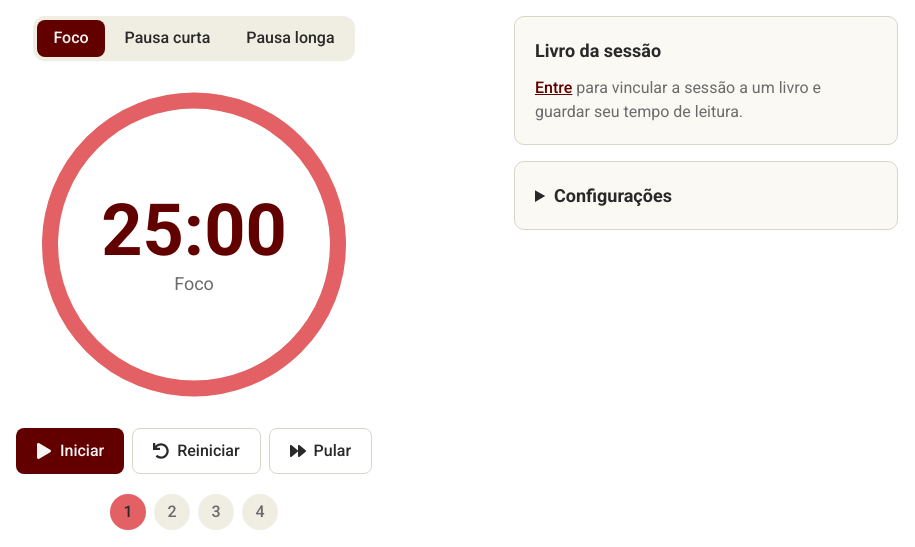
Test: Pomodoro › muda a duração do foco nas configurações
This screenshot has width=915, height=547.
Click the heading "Configurações" at (613, 196), box x1=554 y1=185 x2=672 y2=206
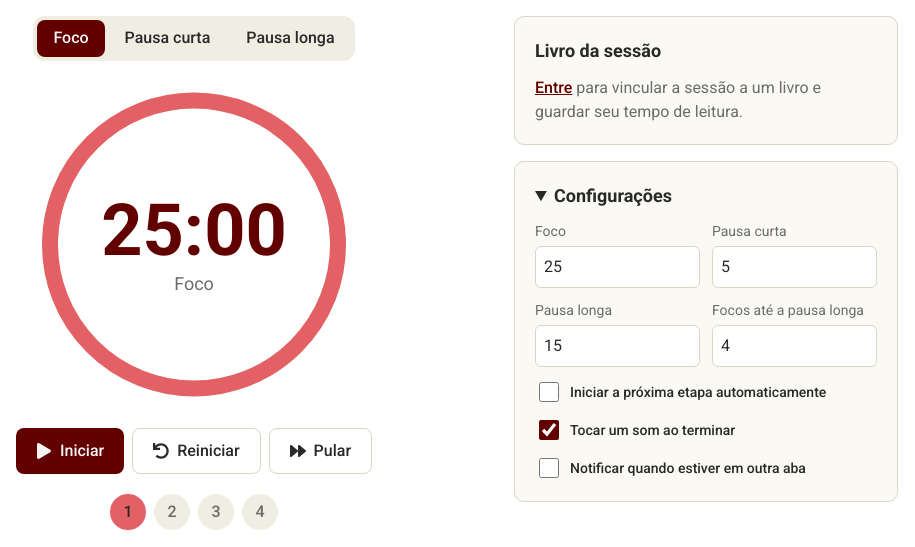
Replace the text in the number field labelled "Foco" with "50" at (618, 267), box x1=535 y1=246 x2=700 y2=288
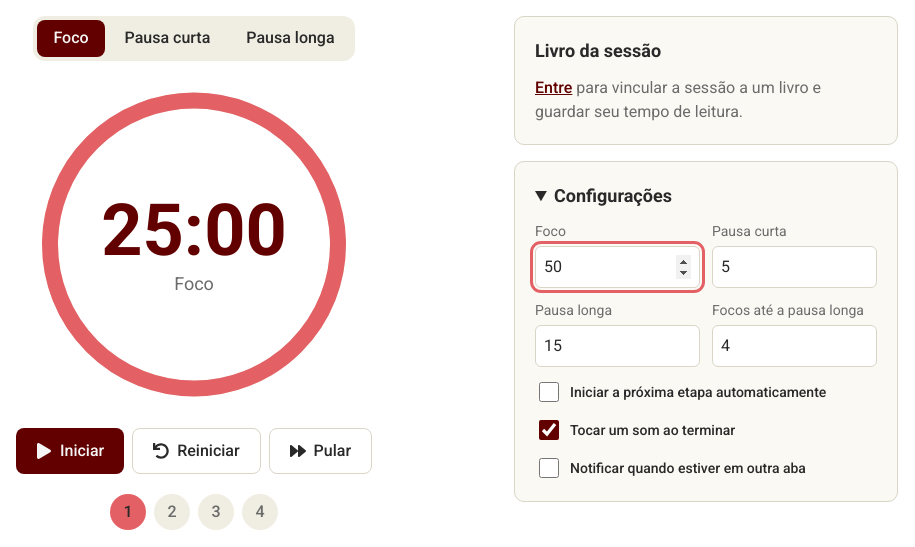
Press Tab
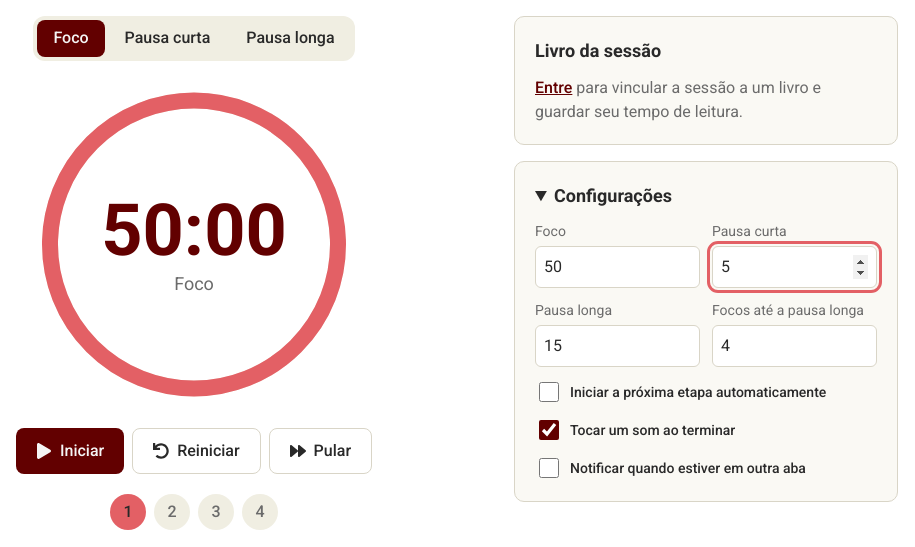
Now the heading "50:00" is shown, box x1=101 y1=191 x2=287 y2=270
